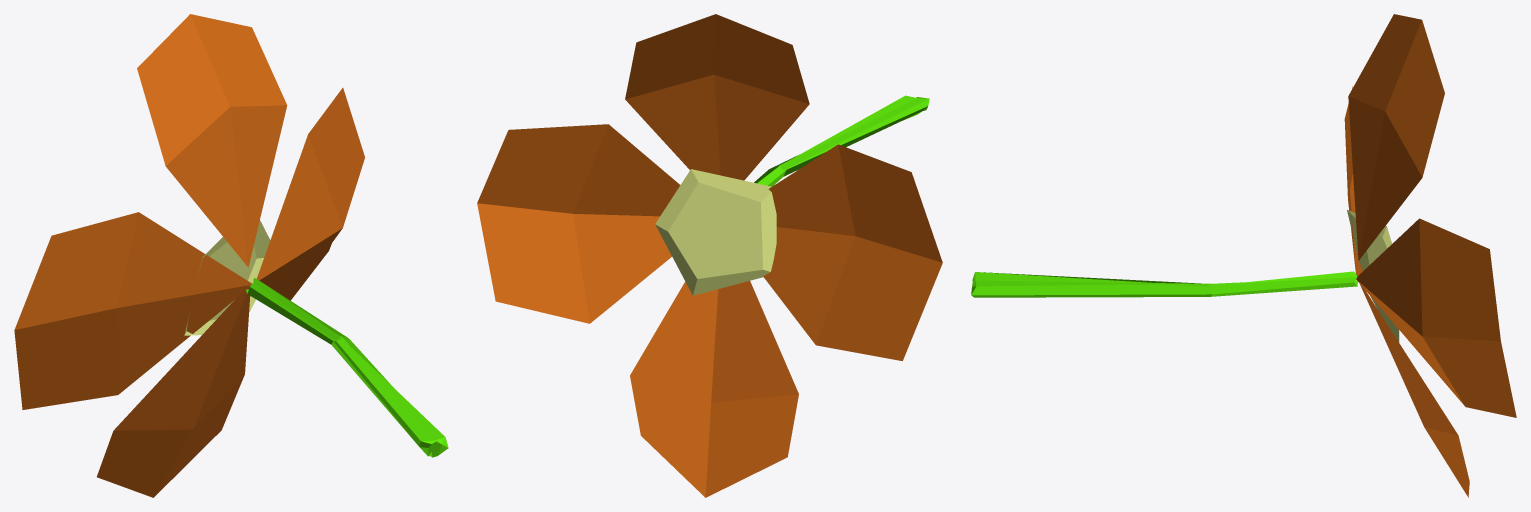
Rendered from flower.004.fbx.
The picture shows the model from 3 angles, left to right: view 1: azimuth 30°, elevation 25°; view 2: azimuth 150°, elevation 25°; view 3: azimuth 270°, elevation 25°; orthographic projection. The views are drawn at different scales.
Visible parts, largest first — view 1: Plane; view 2: Plane; view 3: Plane.
Part boxes in pixels (x1,y1,x2,y2): Plane: (14,14,448,497); Plane: (477,14,942,497); Plane: (971,14,1516,497).
Size of the model in its own units: 605 by 678 by 692.
